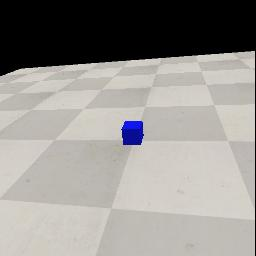box: (121, 121, 144, 145)
